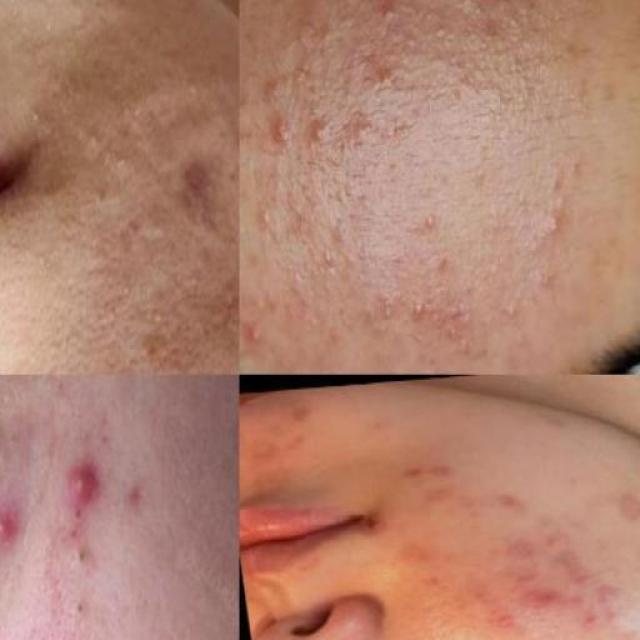blackhead: (76, 604, 83, 613), (78, 552, 84, 562)
